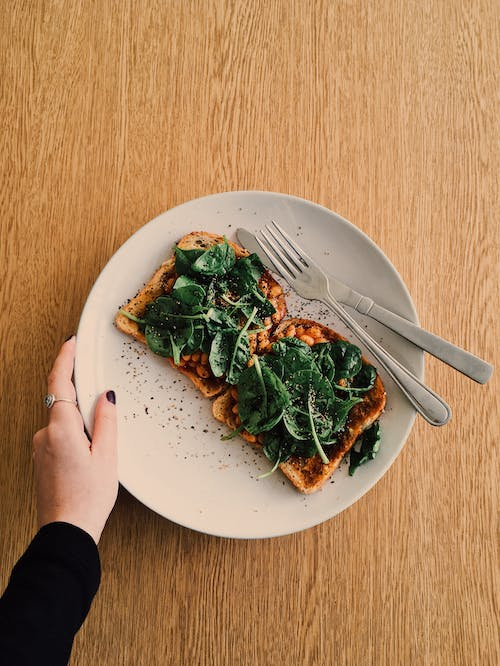knife: (232, 225, 494, 386)
